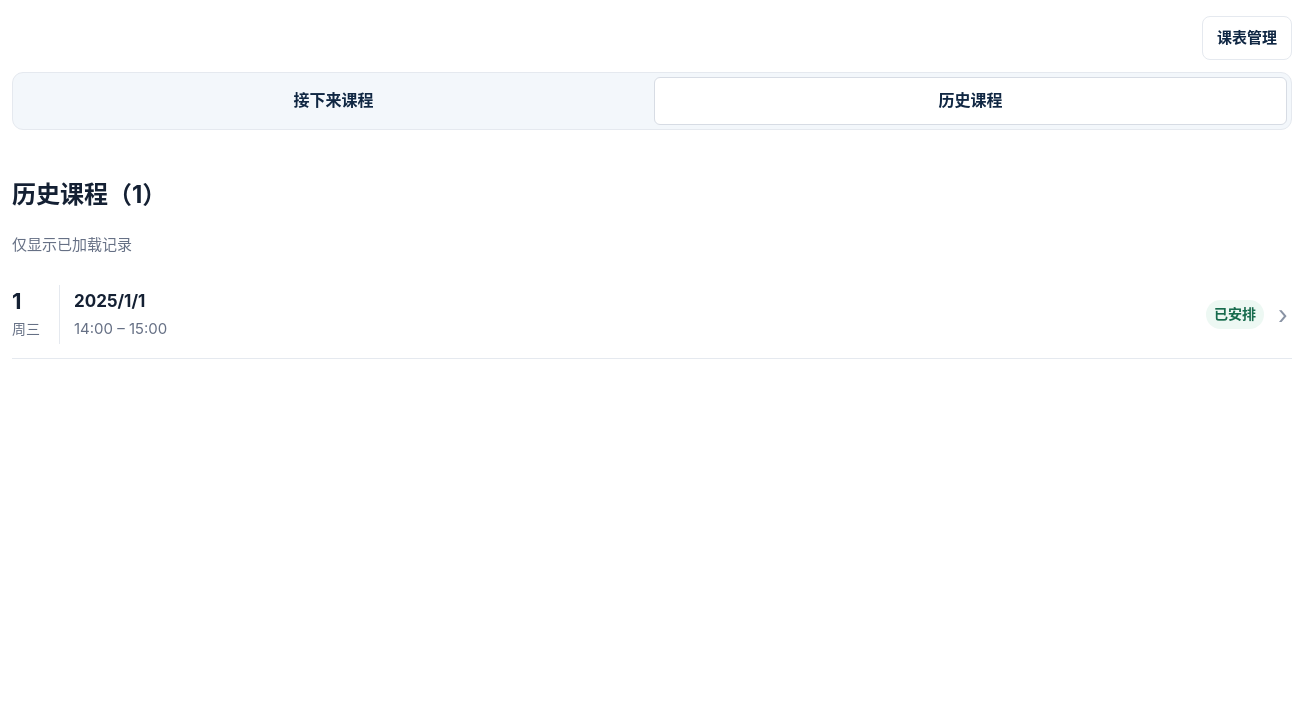
Test: class management hides the course read during focus/reconnect and failed re-entry retains history for retry
The width and height of the screenshot is (1304, 720).
Expected: the link "2025/1/1" is shown, [12,271,1292,359]
Click the button "课表管理": [1247, 38] box [1202,16,1292,60]
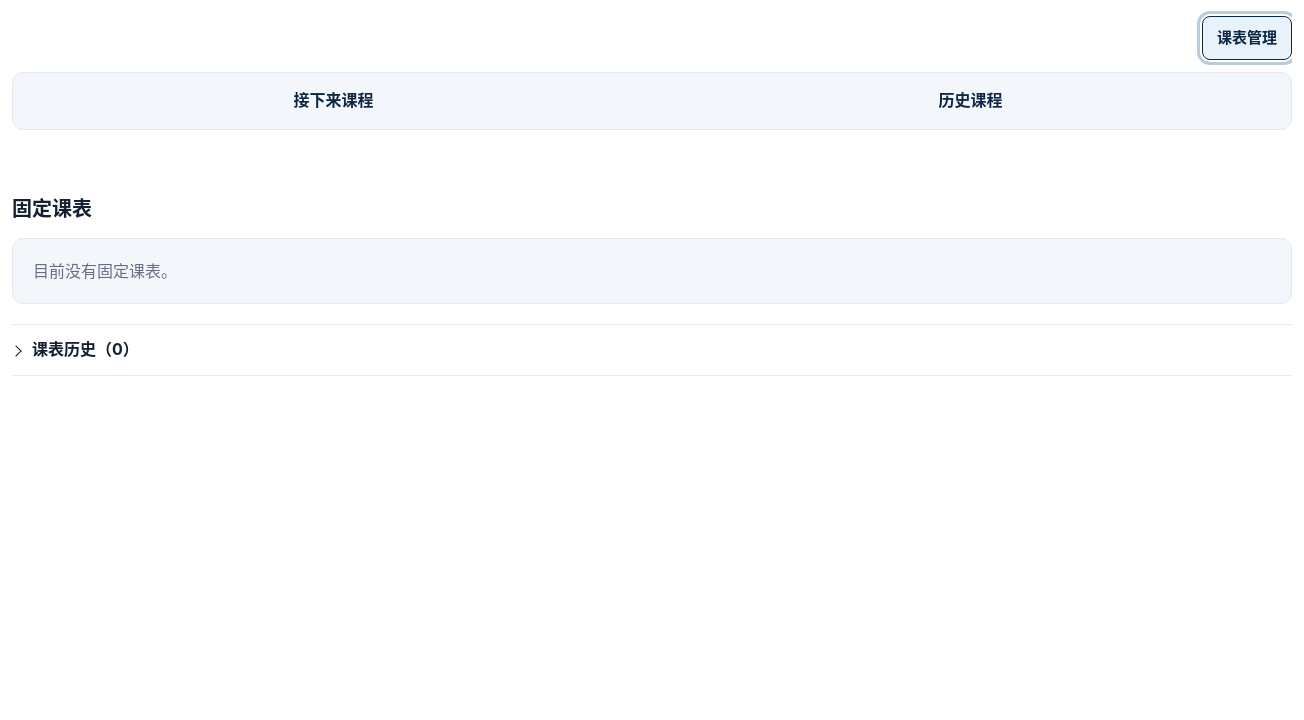
Click the button "历史课程": [970, 101] box [654,77,1287,125]
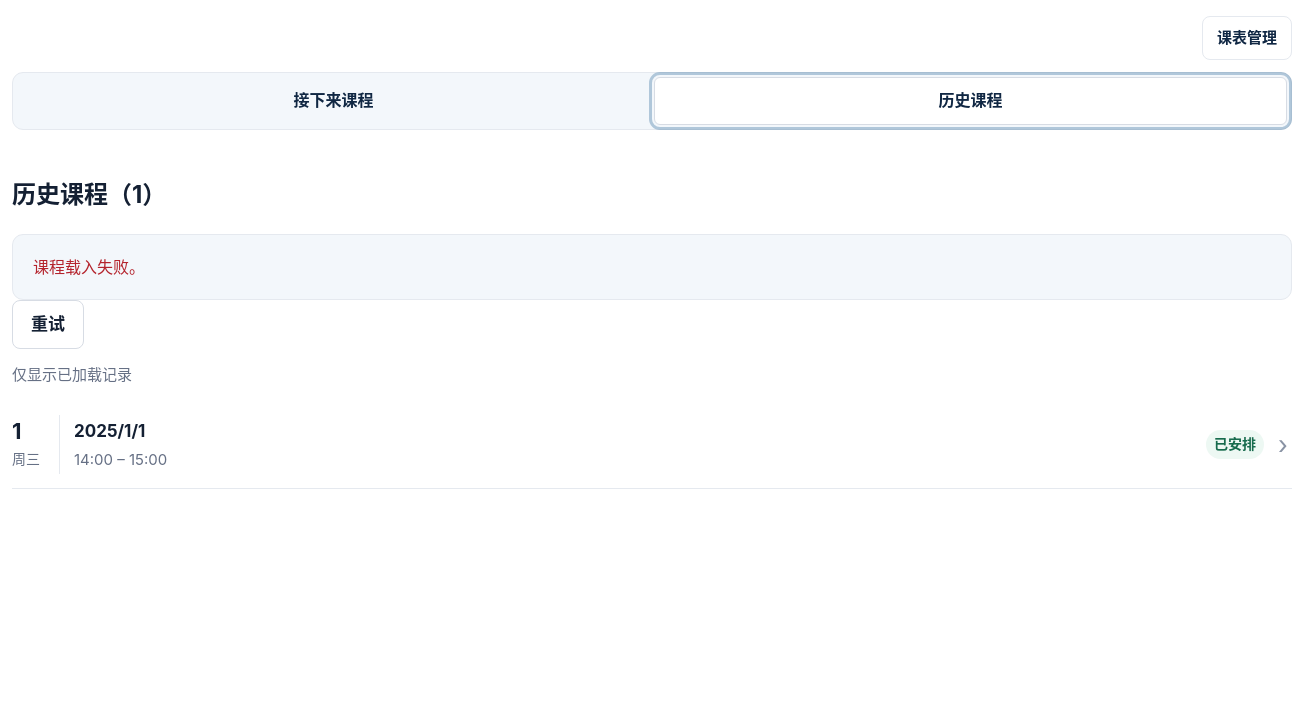
Expected: the text "课程载入失败。" is shown, [12,234,1292,300]
Expected: the link "2025/1/1" is shown, [12,401,1292,489]
Click the button "重试": [48, 325] box [12,300,84,349]
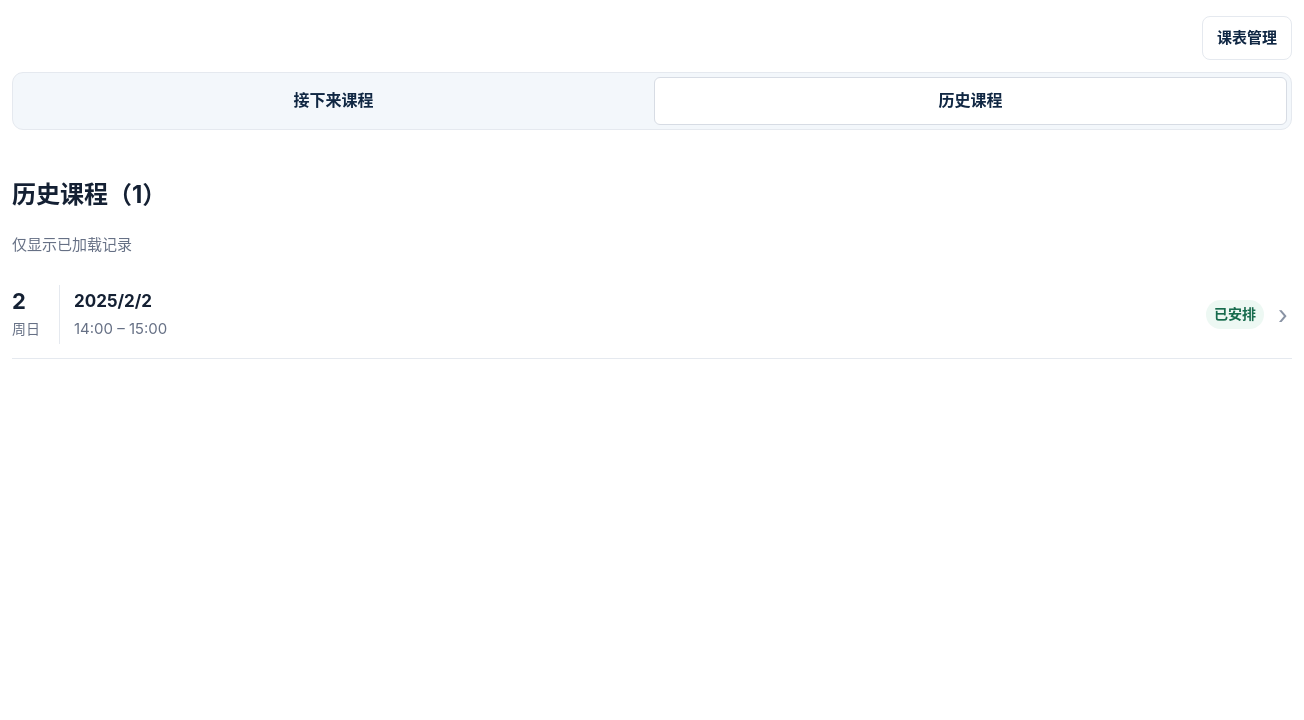
Expected: the link "2025/2/2" is shown, [12,271,1292,359]
